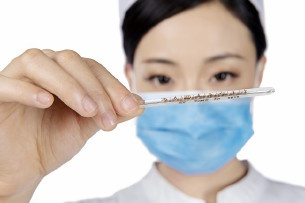Mask: (130, 48, 255, 173)
